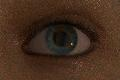eye: (46, 24, 77, 55)
